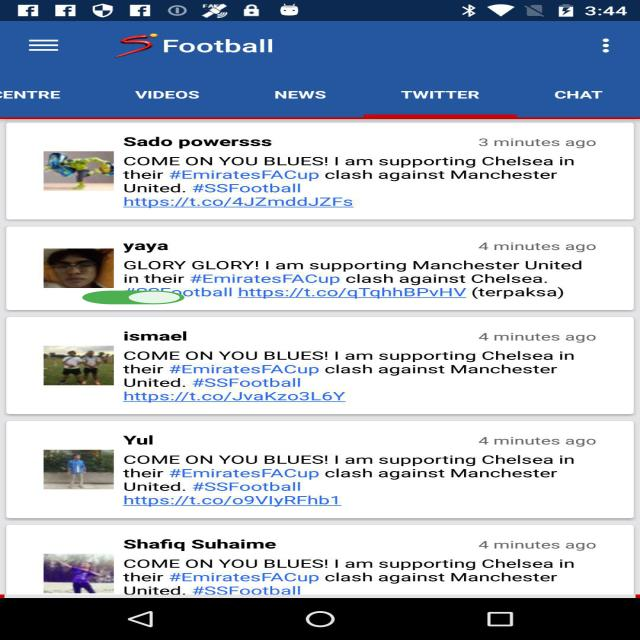social proof: (78, 285, 189, 311)
